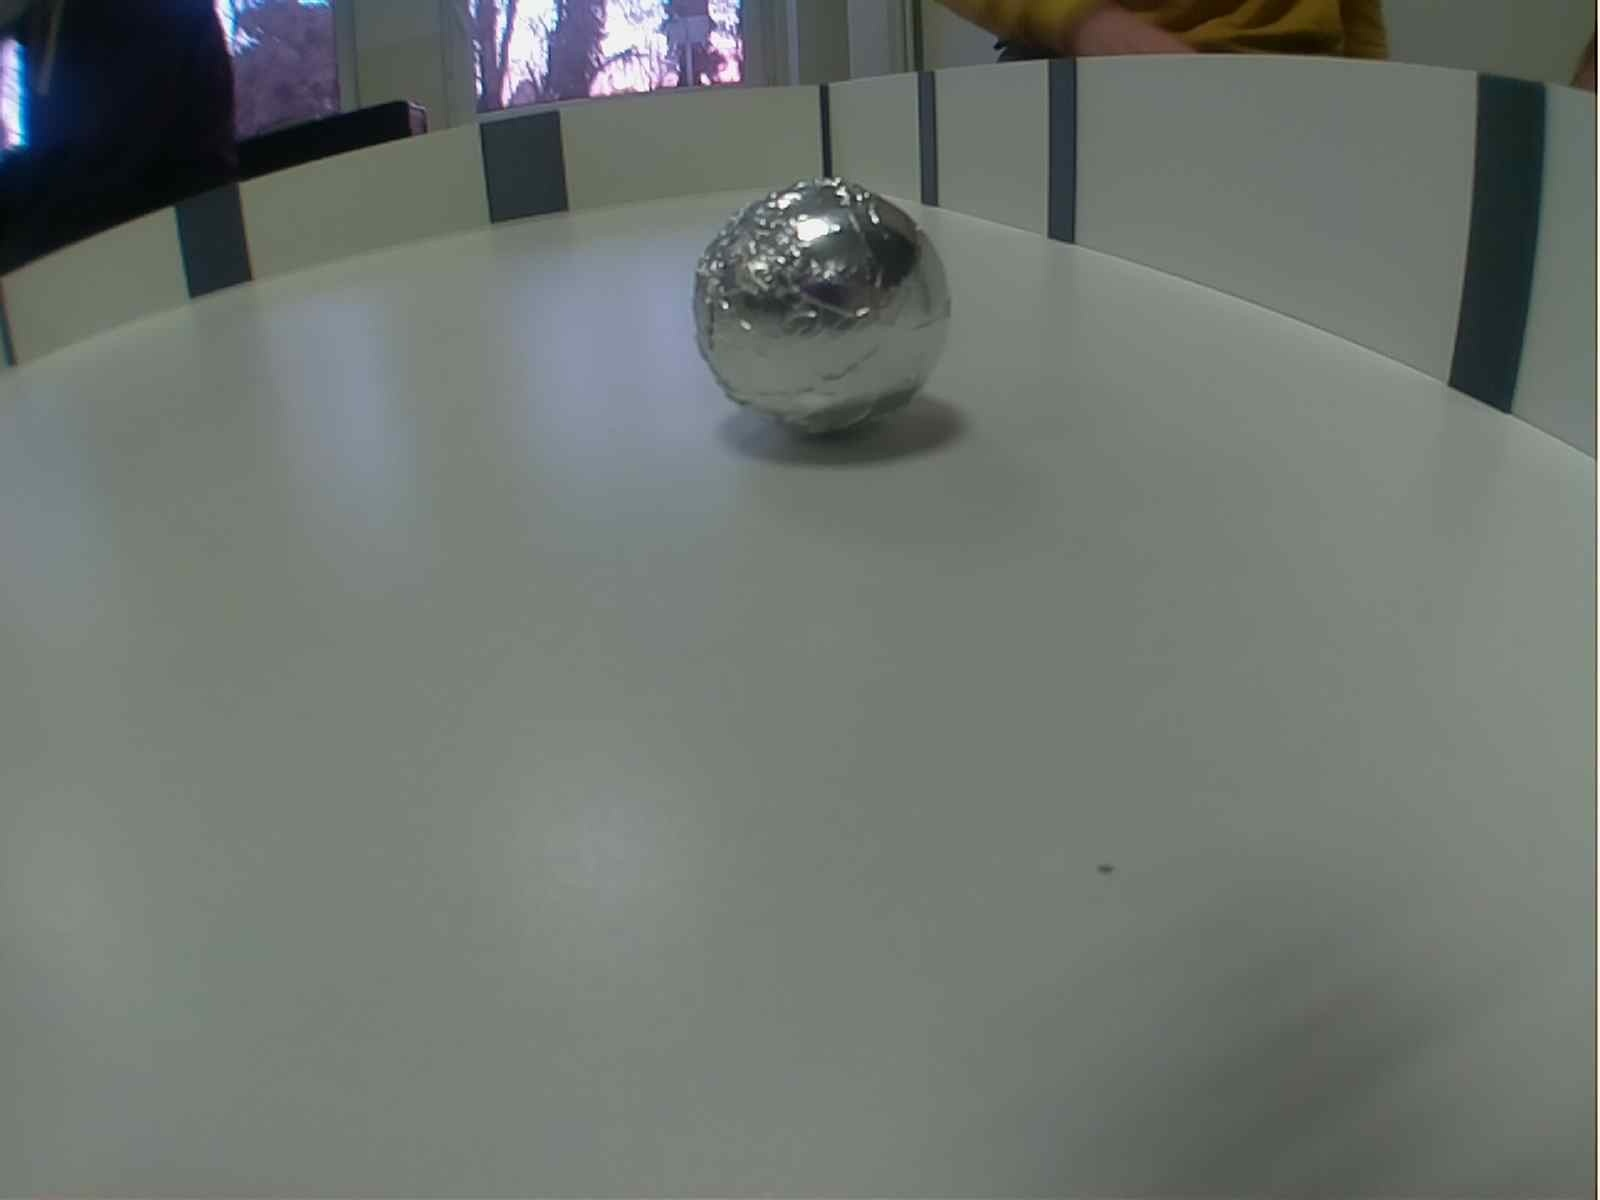bianca: (690, 173, 952, 453)
